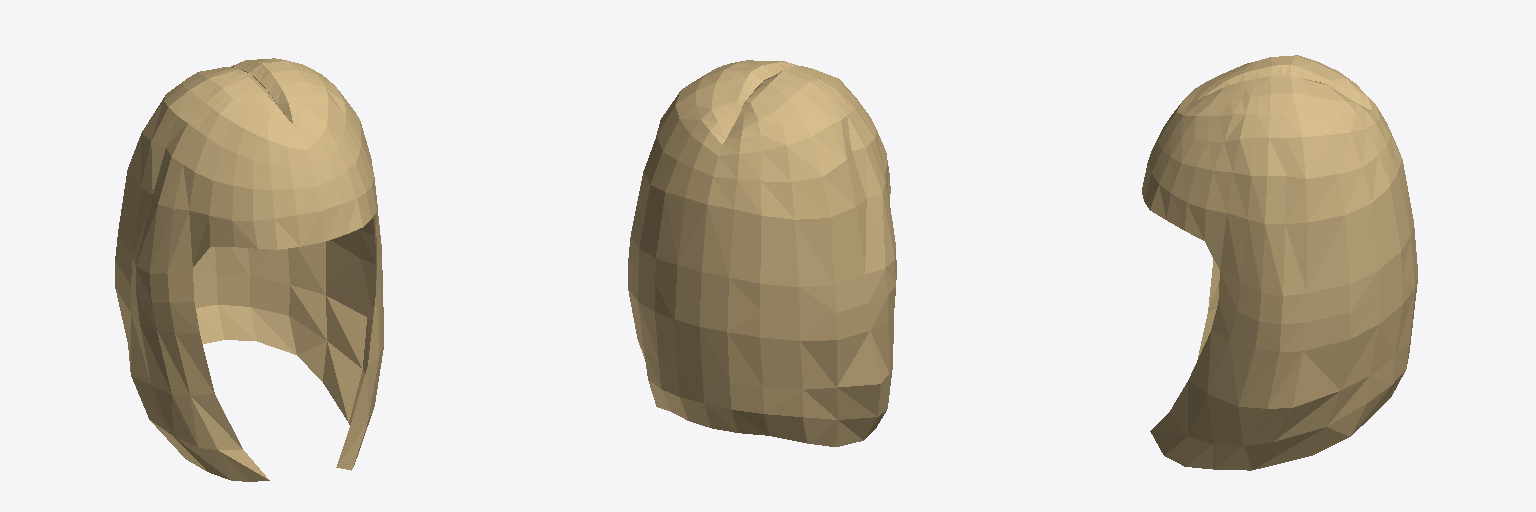
Rendered from hairPrincess.obj.
3 renders of one model, left to right at view 1: azimuth 30°, elevation 25°; view 2: azimuth 150°, elevation 25°; view 3: azimuth 270°, elevation 25°, orthographic.
Visible parts, largest first — view 1: hair_out; view 2: hair_out; view 3: hair_out.
Boxes of the visible parts, x1,y1,x2,y2 form: hair_out: [115, 58, 383, 481]; hair_out: [628, 60, 896, 446]; hair_out: [1142, 55, 1417, 470].
Size of the model in its own units: 0.3164 by 0.4682 by 0.3163.